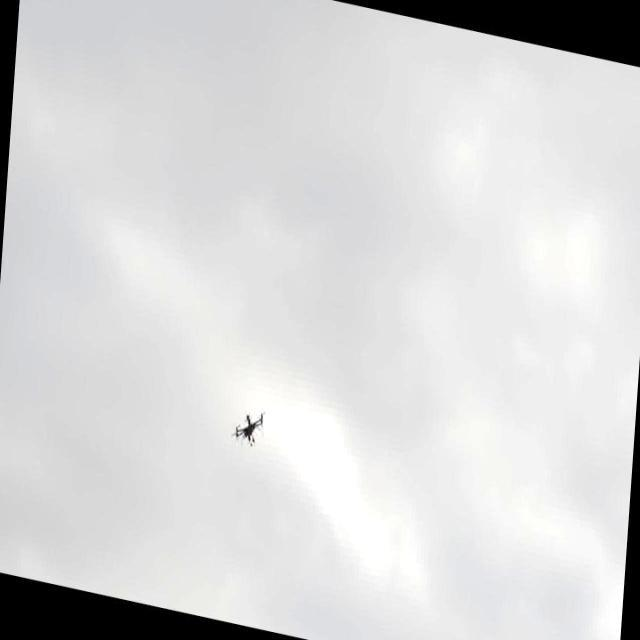drone: (232, 400, 266, 449)
